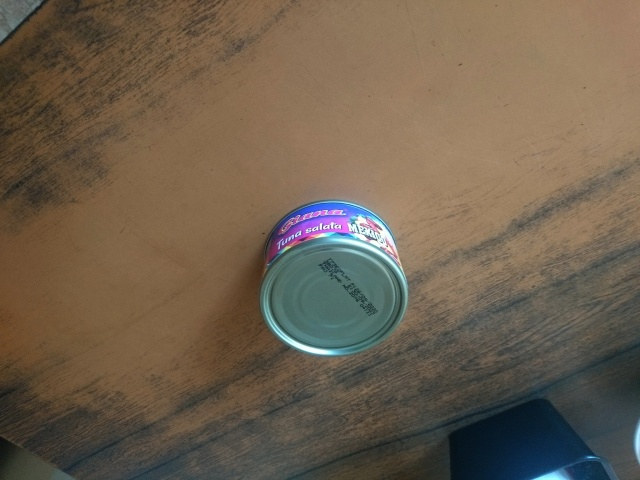Giana Tuna Salad Mexico 185g: (257, 198, 410, 360)
